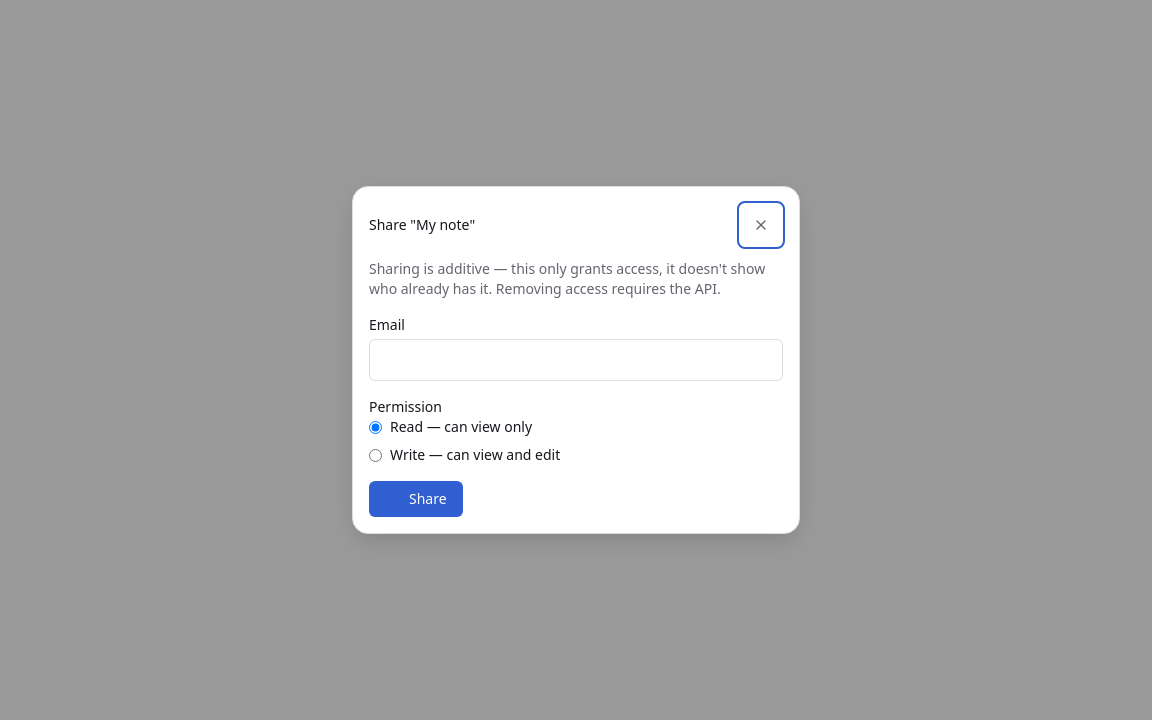
Test case: 404 notes.user_not_found maps to the email field (case 41)
Type "nobody@example.com" into the field labelled "Email".
click(576, 360); type("nobody@example.com")  # box [369,339,783,381]
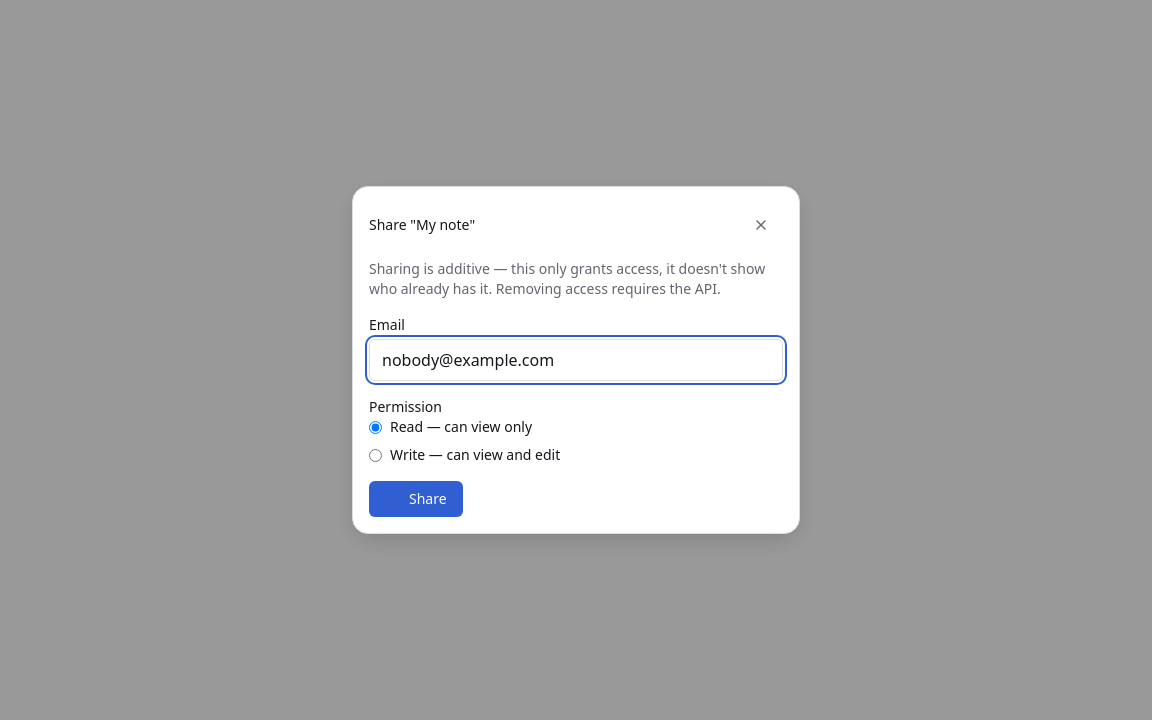
Click the button "Share".
click(416, 499)  # box [369,481,463,517]
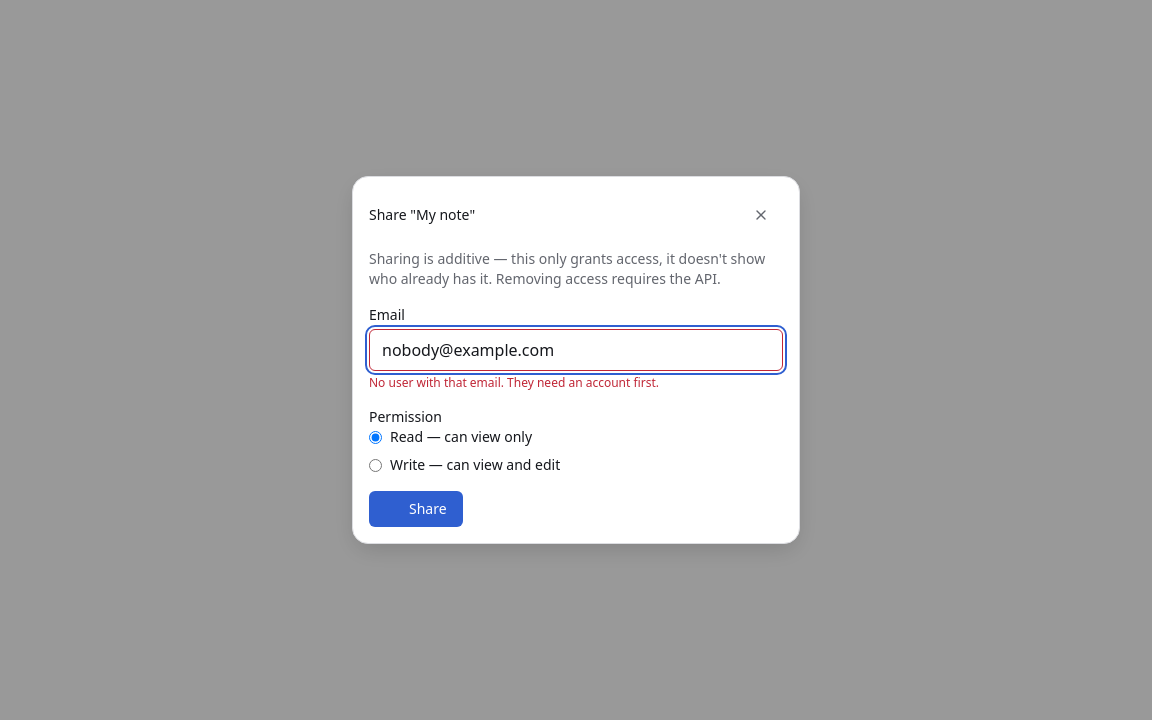
Expected: the text "No user with that email. They need an account first." is shown, [369,374,659,391]
